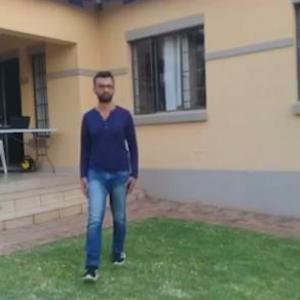follow: (78, 63, 143, 282)
